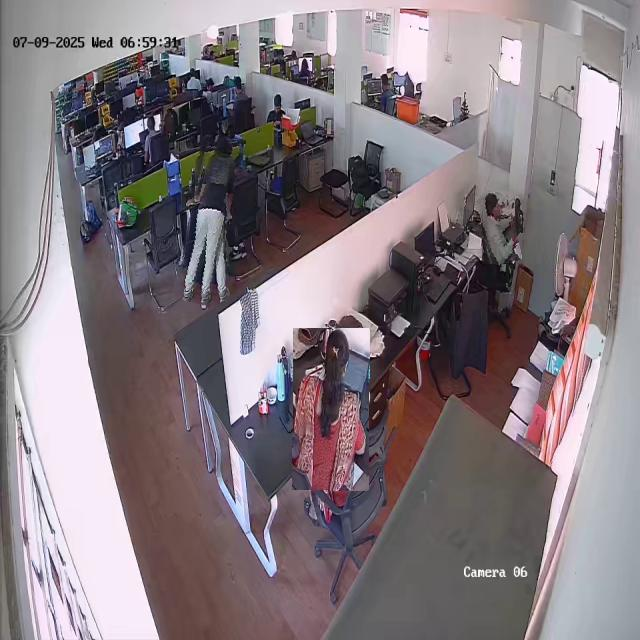person: (293, 328, 369, 491), (180, 133, 238, 305), (478, 190, 519, 265)
